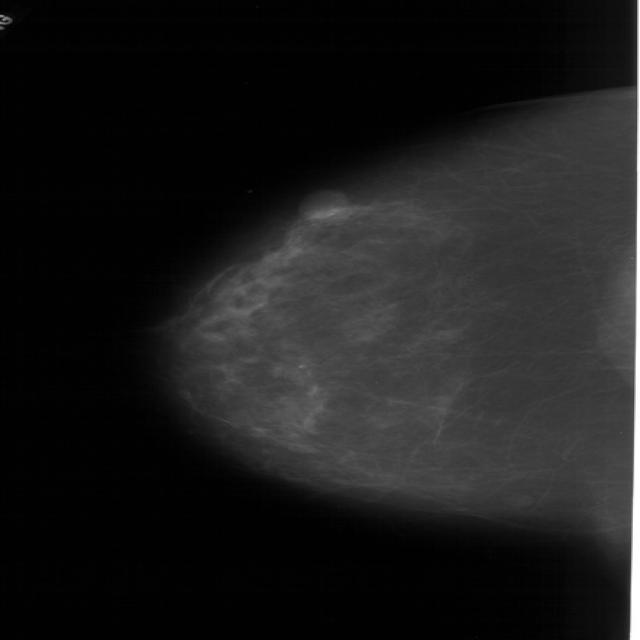tumour: (296, 187, 348, 218)
